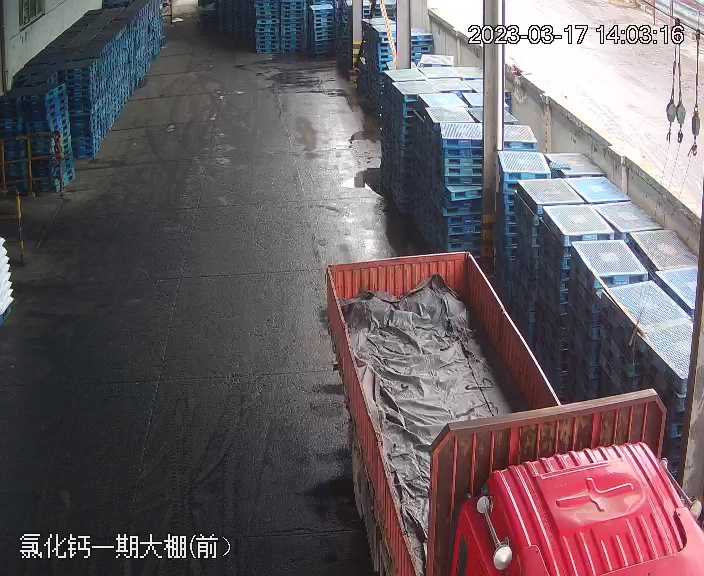truck: (312, 250, 690, 574)
